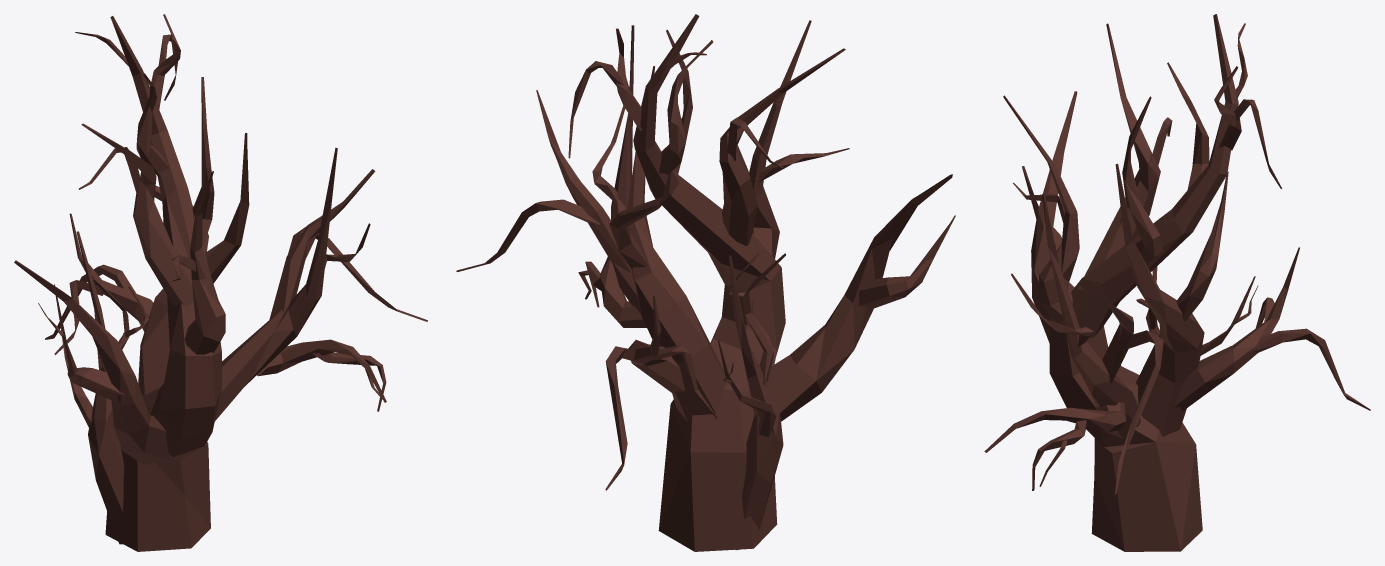
Rendered from large-tree_2.fbx.
The picture shows the model from 3 angles, left to right: view 1: azimuth 30°, elevation 25°; view 2: azimuth 150°, elevation 25°; view 3: azimuth 270°, elevation 25°; orthographic projection. The views are drawn at different scales.
Parts seen in each view (by area): view 1: LargeTree2_LOD0; view 2: LargeTree2_LOD0; view 3: LargeTree2_LOD0.
Boxes of the visible parts, box(x1,y1,x2,y2) form: LargeTree2_LOD0: box(14, 14, 427, 551); LargeTree2_LOD0: box(456, 14, 955, 551); LargeTree2_LOD0: box(984, 14, 1370, 551).
Size of what is drawn, in the model's own units: 17.76 by 19.68 by 13.29.
